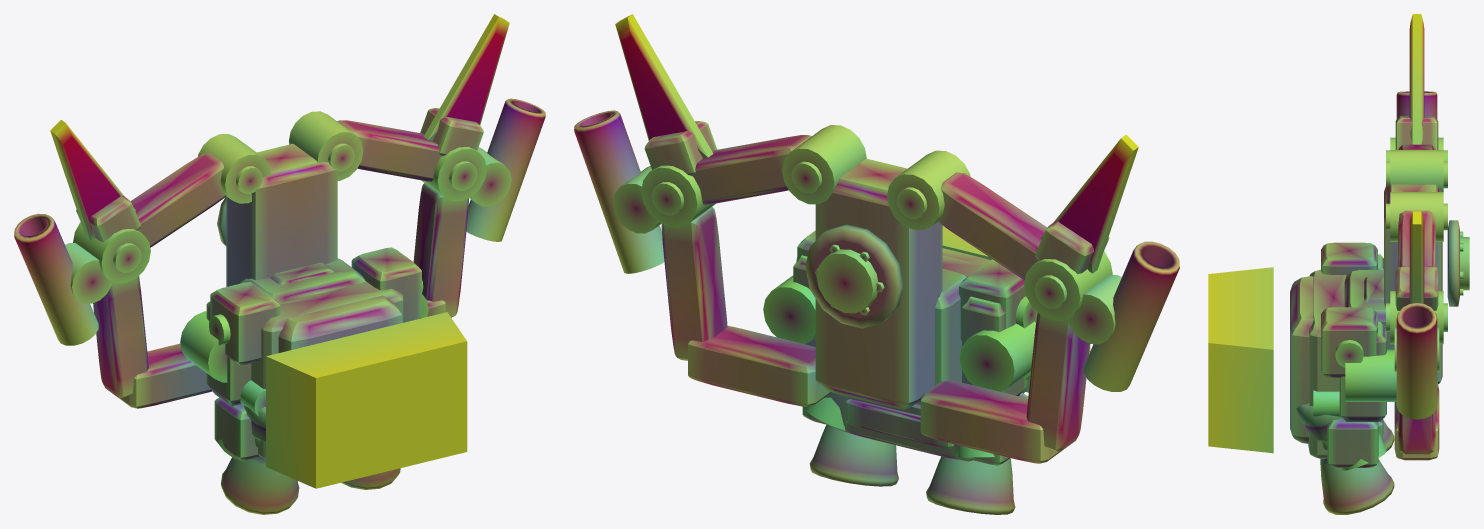
The model's file is llm_gen_dorsal_pack_072_5754c2.glb.
3 renders of one model, left to right at view 1: azimuth 30°, elevation 25°; view 2: azimuth 150°, elevation 25°; view 3: azimuth 270°, elevation 25°, orthographic. The views are drawn at different scales.
Visible parts, largest first — view 1: mounting_dovetail_plug, halo_spine_tower_1_wing_white, halo_funnel_pod_14_titanium_silver_l, halo_lower_arc_9_psycho_emerald_r, halo_lower_arc_9_psycho_emerald_l, halo_upper_arc_6_psycho_emerald_l, halo_funnel_pod_14_titanium_silver_r, adapter_dorsal_spine_dark, halo_upper_arc_6_psycho_emerald_r, halo_crown_fin_12_titanium_silver_r, adapter_dorsal_trunnion_dark_20_adapter_dark_l, halo_crown_fin_12_titanium_silver_l (+21 smaller); view 2: halo_spine_tower_1_wing_white, adapter_sub_ring_bot_clamp_dark_10_adapter_dark_r, adapter_sub_ring_bot_clamp_dark_10_adapter_dark_l, halo_funnel_pod_14_titanium_silver_l, halo_lower_arc_9_psycho_emerald_r, halo_lower_arc_9_psycho_emerald_l, halo_upper_arc_6_psycho_emerald_l, halo_funnel_pod_14_titanium_silver_r, halo_upper_arc_6_psycho_emerald_r, halo_crown_fin_12_titanium_silver_r, servo_2_servo_accent, halo_crown_fin_12_titanium_silver_l (+24 smaller); view 3: mounting_dovetail_plug, halo_funnel_pod_14_titanium_silver_r, adapter_dorsal_spine_dark, halo_boost_bell_15_vernier_bell_vernier_r, adapter_dorsal_trunnion_dark_20_adapter_dark_r, adapter_graft_dorsal_collar_dark_22_adapter_dark, adapter_lower_tank_pylon_dark_16_adapter_dark_r, adapter_dorsal_rotary_boss_dark_r, halo_crown_fin_12_titanium_silver_l, adapter_sub_ring_top_clamp_dark_4_adapter_dark_l, halo_spine_tower_1_wing_white, adapter_dorsal_trunnion_dark_20_adapter_dark_l (+17 smaller).
Boxes of the visible parts, x1,y1,x2,y2 form: mounting_dovetail_plug: (266, 312, 467, 488); halo_spine_tower_1_wing_white: (226, 143, 337, 286); halo_funnel_pod_14_titanium_silver_l: (14, 213, 98, 345); halo_lower_arc_9_psycho_emerald_r: (413, 183, 468, 317); halo_lower_arc_9_psycho_emerald_l: (93, 276, 148, 398); halo_upper_arc_6_psycho_emerald_l: (130, 153, 226, 247); halo_funnel_pod_14_titanium_silver_r: (466, 98, 545, 241); adapter_dorsal_spine_dark: (278, 295, 401, 352); halo_upper_arc_6_psycho_emerald_r: (337, 120, 441, 181); halo_crown_fin_12_titanium_silver_r: (423, 14, 509, 140); adapter_dorsal_trunnion_dark_20_adapter_dark_l: (210, 282, 280, 365); halo_crown_fin_12_titanium_silver_l: (50, 120, 136, 241); halo_spine_tower_1_wing_white: (815, 158, 942, 409); adapter_sub_ring_bot_clamp_dark_10_adapter_dark_r: (688, 325, 831, 406); adapter_sub_ring_bot_clamp_dark_10_adapter_dark_l: (920, 380, 1061, 463); halo_funnel_pod_14_titanium_silver_l: (1083, 241, 1179, 391); halo_lower_arc_9_psycho_emerald_r: (661, 207, 727, 360); halo_lower_arc_9_psycho_emerald_l: (1026, 312, 1089, 451); halo_upper_arc_6_psycho_emerald_l: (938, 172, 1047, 280); halo_funnel_pod_14_titanium_silver_r: (574, 110, 664, 273); halo_upper_arc_6_psycho_emerald_r: (692, 135, 811, 205); halo_crown_fin_12_titanium_silver_r: (615, 14, 713, 158); servo_2_servo_accent: (805, 224, 903, 328); halo_crown_fin_12_titanium_silver_l: (1040, 134, 1138, 273); mounting_dovetail_plug: (1208, 267, 1273, 453); halo_funnel_pod_14_titanium_silver_r: (1396, 303, 1437, 419); adapter_dorsal_spine_dark: (1290, 276, 1313, 443); halo_boost_bell_15_vernier_bell_vernier_r: (1320, 458, 1394, 514); adapter_dorsal_trunnion_dark_20_adapter_dark_r: (1321, 307, 1377, 377); adapter_graft_dorsal_collar_dark_22_adapter_dark: (1308, 269, 1346, 458); adapter_lower_tank_pylon_dark_16_adapter_dark_r: (1327, 418, 1378, 467); adapter_dorsal_rotary_boss_dark_r: (1345, 349, 1396, 401); halo_crown_fin_12_titanium_silver_l: (1409, 14, 1424, 144); adapter_sub_ring_top_clamp_dark_4_adapter_dark_l: (1390, 150, 1443, 191); halo_spine_tower_1_wing_white: (1384, 183, 1442, 384); adapter_dorsal_trunnion_dark_20_adapter_dark_l: (1321, 242, 1377, 274).
Bounding box in the file's own units: 69.6 × 50.24 × 32.04.
